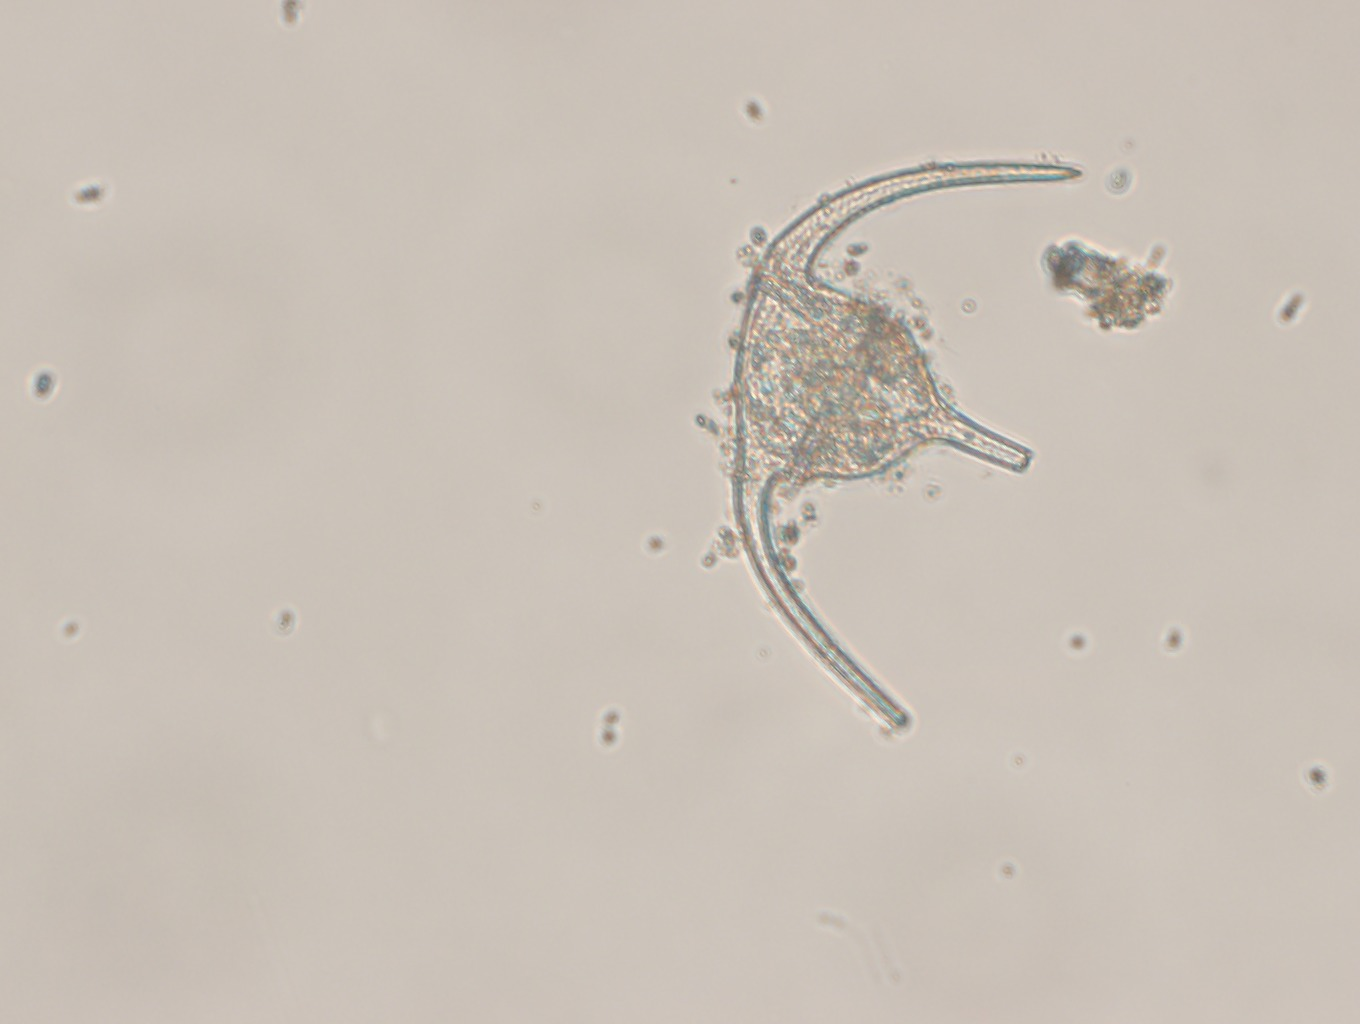ceratium tripos: (716, 136, 1086, 733)
